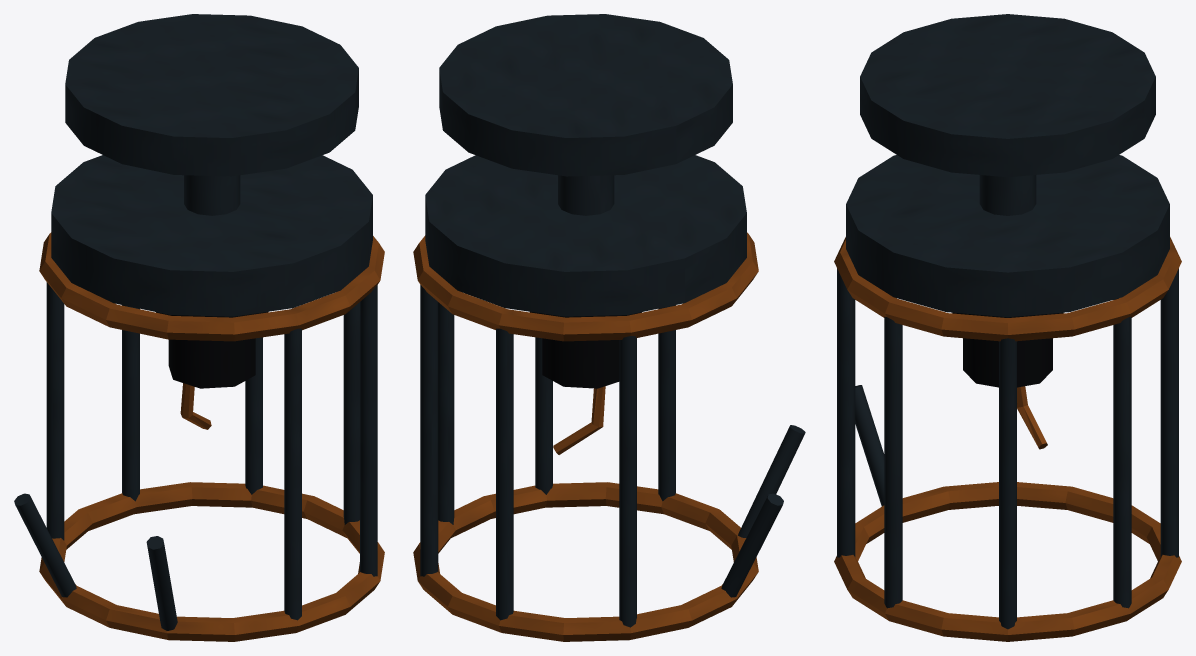
File: ceiling_lamp_broken.glb
3 renders of one model, left to right at view 1: azimuth 30°, elevation 25°; view 2: azimuth 150°, elevation 25°; view 3: azimuth 270°, elevation 25°, orthographic.
Visible parts, largest first — view 1: ceiling_lamp_broken; view 2: ceiling_lamp_broken; view 3: ceiling_lamp_broken.
Boxes of the visible parts, x1,y1,x2,y2 form: ceiling_lamp_broken: [14, 14, 384, 641]; ceiling_lamp_broken: [413, 14, 805, 641]; ceiling_lamp_broken: [834, 14, 1181, 641].
Bounding box in the file's own units: 0.5692 × 0.7747 × 0.494.
3 materials, 3 textured.
